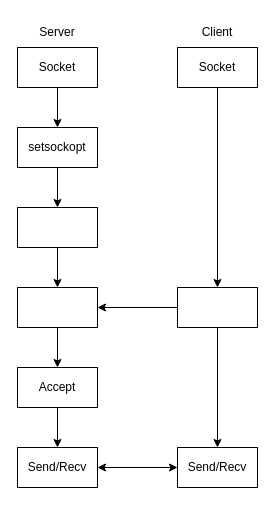
This 275x505 diagram has some shape labels left out. The shapes that lost their labels are listed below. From the top down, each one's centre as x and y in pixels, then its label:
the point at 57,227: Bind
the point at 57,307: Listen
the point at 217,307: Connect
